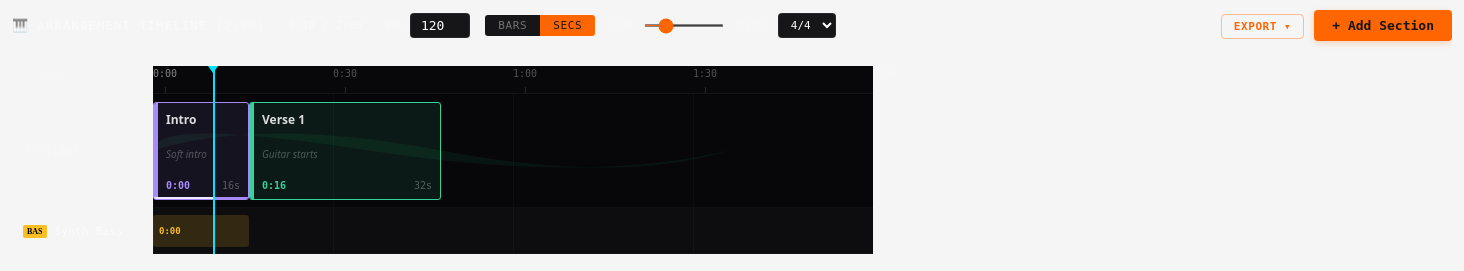
ArrangementTimelineWidget › shows track lane context menu on right click
Press the mouse on the element with test id "track-lane-track-1" at point(513, 231), box x1=153 y1=208 x2=873 y2=254
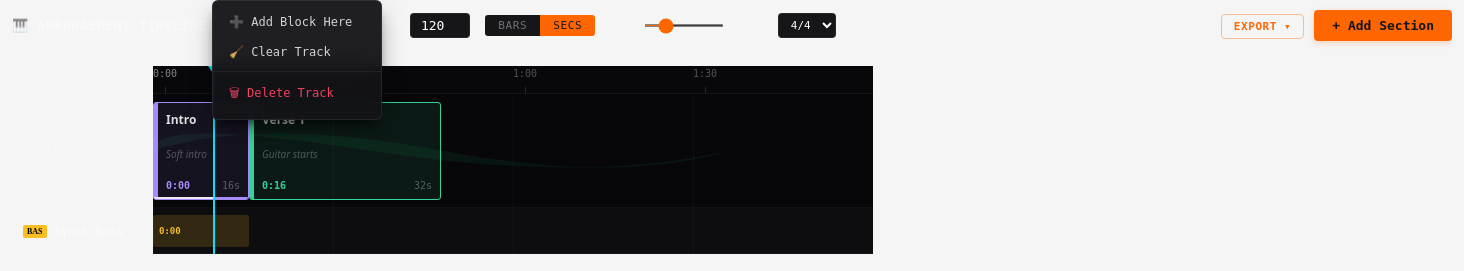
Check: the button "➕ Add Block Here" is shown, box x1=213 y1=7 x2=381 y2=37
Check: the button "🧹 Clear Track" is shown, box x1=213 y1=37 x2=381 y2=67
Check: the button "🗑 Delete Track" is shown, box x1=213 y1=76 x2=381 y2=113
